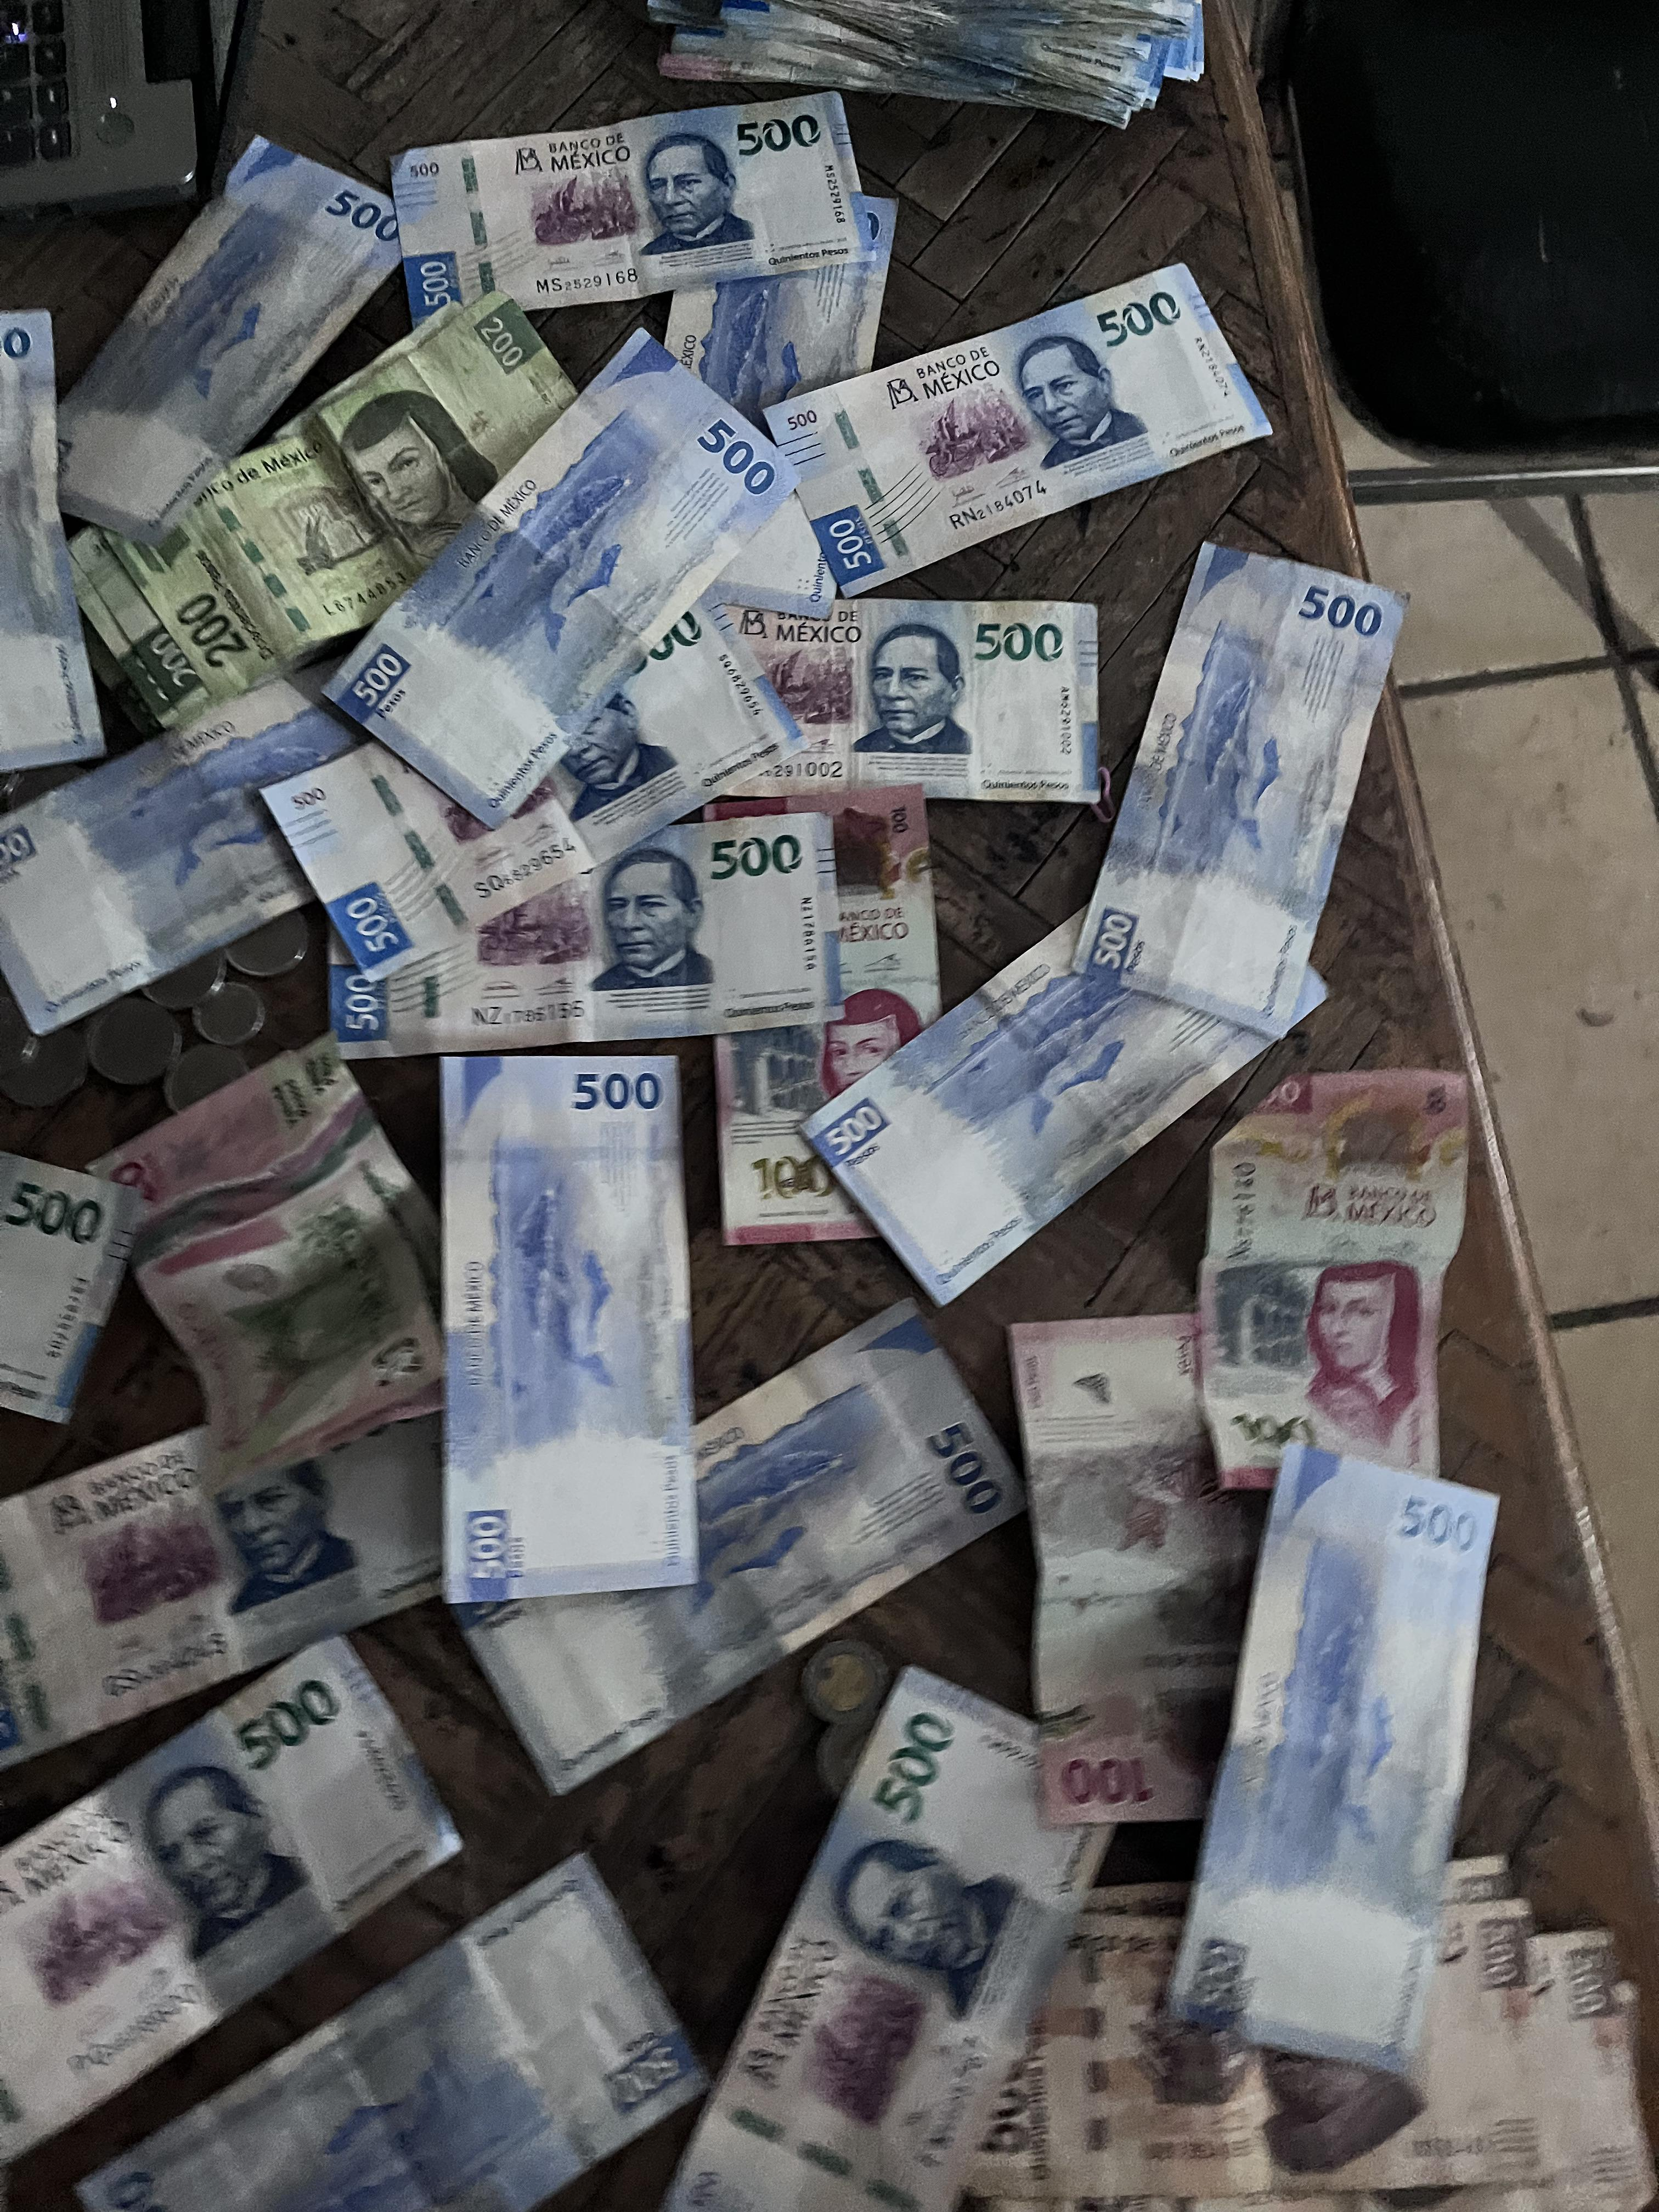100: (1009, 1313, 1312, 1853), (1197, 1055, 1476, 1489), (702, 780, 934, 1256)
20: (85, 1055, 444, 1446)
200: (68, 275, 636, 723)
500: (958, 1864, 1626, 2209)
500 nuevo: (2, 1639, 469, 2153), (322, 345, 802, 827), (458, 1315, 951, 1777), (73, 1858, 713, 2212), (216, 578, 812, 951), (1161, 1428, 1492, 2067), (692, 1672, 1084, 2205), (812, 927, 1302, 1294), (2, 1386, 450, 1761), (1077, 543, 1396, 1024), (788, 266, 1232, 599), (52, 139, 413, 542), (437, 1062, 702, 1604), (345, 789, 840, 1069), (397, 89, 863, 326), (0, 700, 340, 1021), (728, 592, 1103, 806), (2, 307, 101, 775), (2, 1155, 148, 1425)
